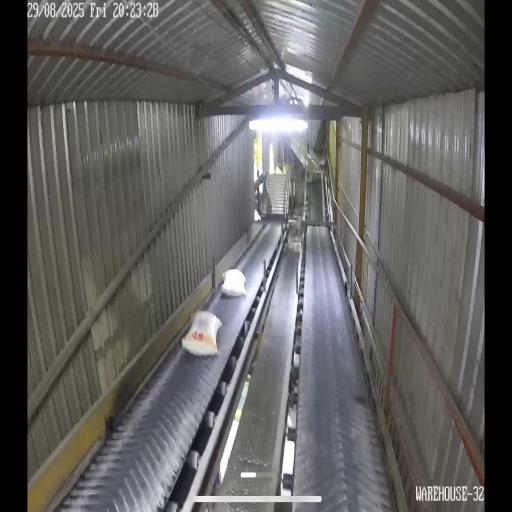c-belt-sack-count: (183, 312, 221, 355), (221, 268, 246, 296)
